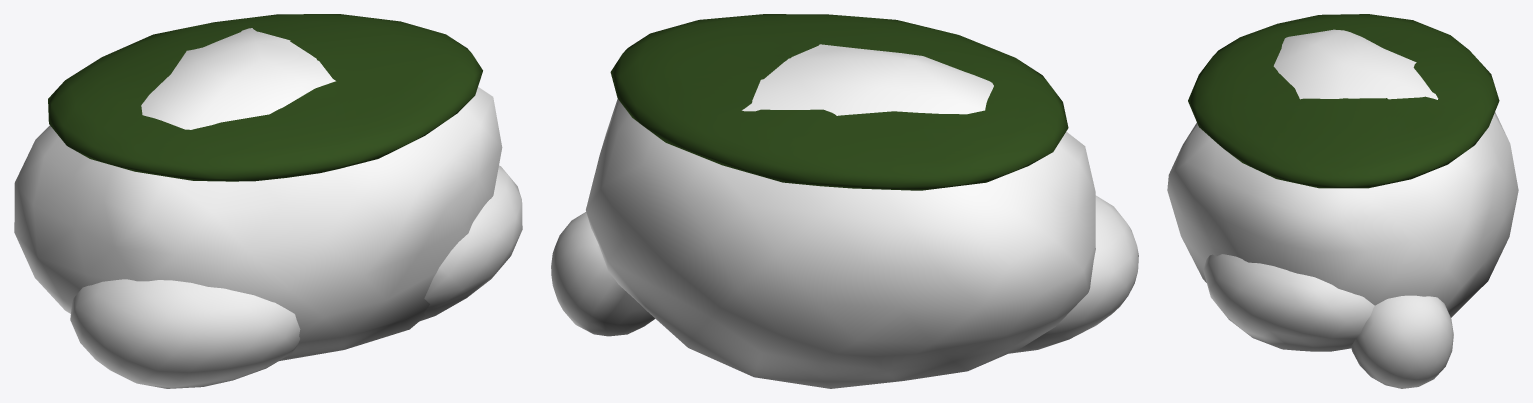
File: small-cliff.obj
3 renders of one model, left to right at view 1: azimuth 30°, elevation 25°; view 2: azimuth 150°, elevation 25°; view 3: azimuth 270°, elevation 25°, orthographic. The views are drawn at different scales.
Parts seen in each view (by area): view 1: small-cliff; view 2: small-cliff; view 3: small-cliff.
Boxes of the visible parts, x1,y1,x2,y2 form: small-cliff: (14,14,522,388); small-cliff: (551,14,1138,388); small-cliff: (1167,14,1518,388).
Size of the model in its own units: 2.41 by 1.42 by 1.81.
